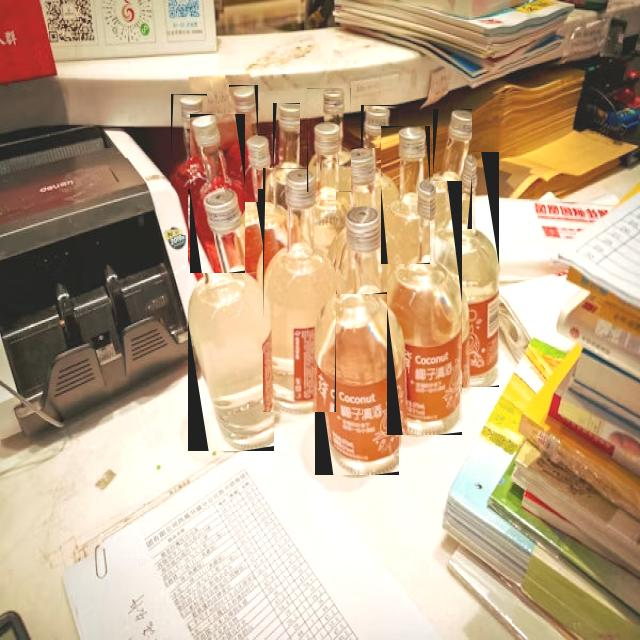Bottle: (188, 190, 274, 450), (315, 207, 398, 475), (388, 181, 461, 435), (264, 168, 335, 412), (444, 153, 499, 386), (190, 114, 245, 273), (238, 134, 286, 283), (381, 127, 429, 264), (171, 94, 206, 234), (312, 123, 347, 254), (434, 110, 471, 228), (362, 106, 397, 211), (230, 86, 258, 201), (324, 89, 350, 191), (274, 104, 299, 207), (351, 148, 379, 210)
